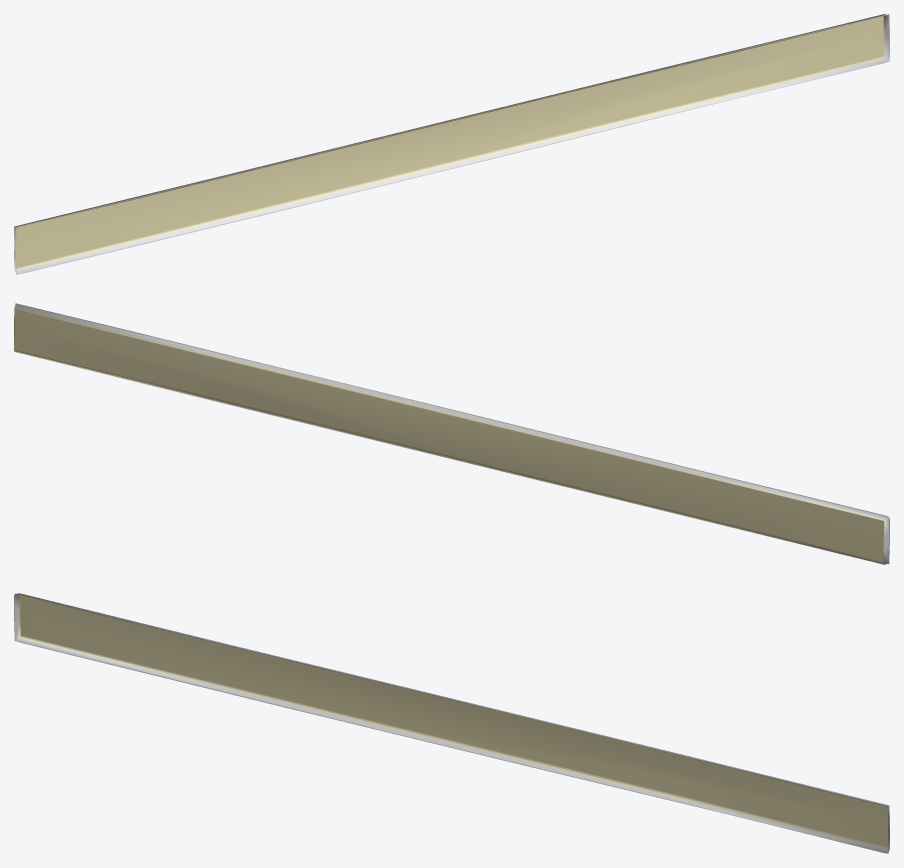
File: ui_inset_20x1.glb
3 renders of one model, top to bottom at view 1: azimuth 30°, elevation 25°; view 2: azimuth 150°, elevation 25°; view 3: azimuth 330°, elevation 25°, orthographic.
Visible parts, largest first — view 1: Cube; view 2: Cube; view 3: Cube.
Part boxes in pixels (left/top/right/bottom): Cube: left=14, top=14, right=889, bottom=274; Cube: left=14, top=303, right=889, bottom=564; Cube: left=14, top=593, right=889, bottom=853.
Bounding box in the file's own units: 1.99 × 0.1065 × 0.0151.
